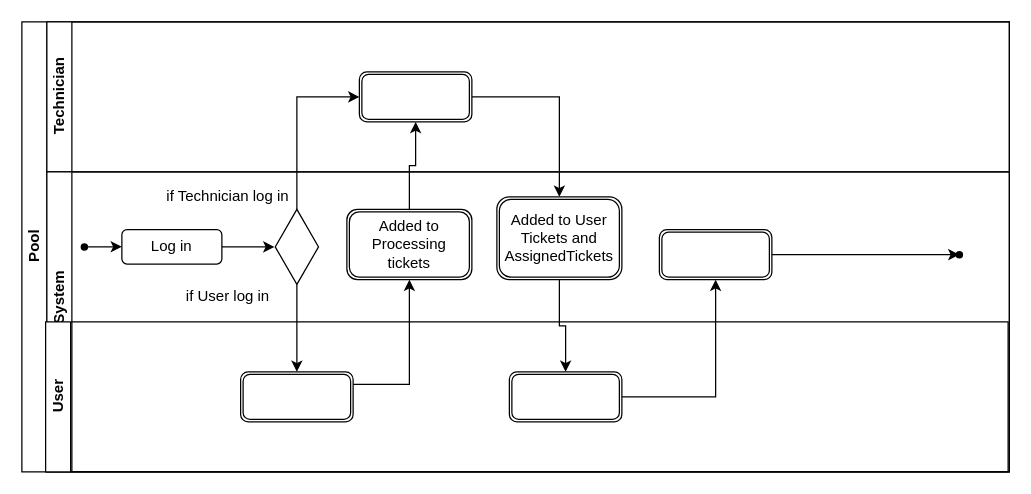
Image size: 1031x494. Some labels were removed from this diagram. The centre of each missing label's shape, as x and y in pixels:
"Assign Ticket" belongs at pixel 415 96.
"Book Ticket" belongs at pixel 296 396.
"Displays Tickets to User" belongs at pixel 715 254.
"View Tickets" belongs at pixel 565 396.
